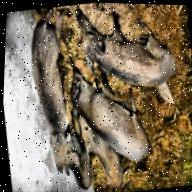boar: (70, 2, 179, 95), (22, 14, 81, 183), (59, 64, 156, 166), (75, 113, 117, 175)
